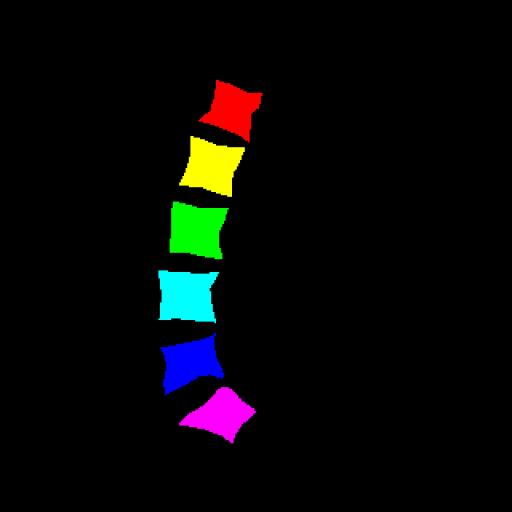L1: (199, 80, 262, 142)
L2: (179, 136, 245, 196)
L3: (170, 202, 228, 258)
L4: (159, 270, 218, 322)
L5: (161, 334, 224, 394)
S1: (179, 387, 255, 442)
